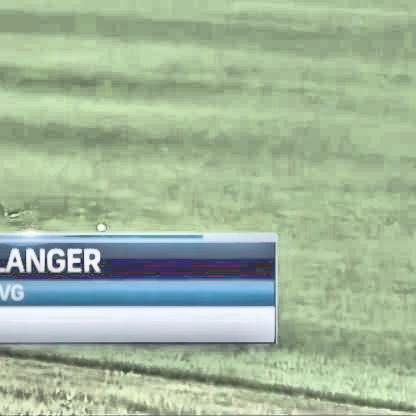golfball: (94, 219, 104, 229)
